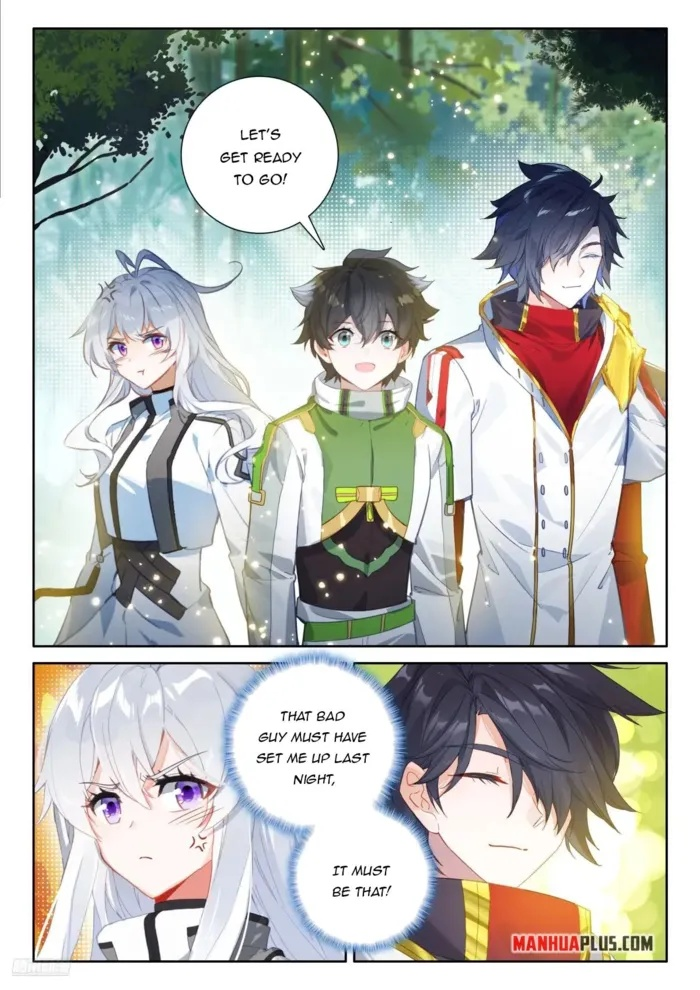bubbles: (215, 649, 442, 960), (173, 70, 350, 261)
